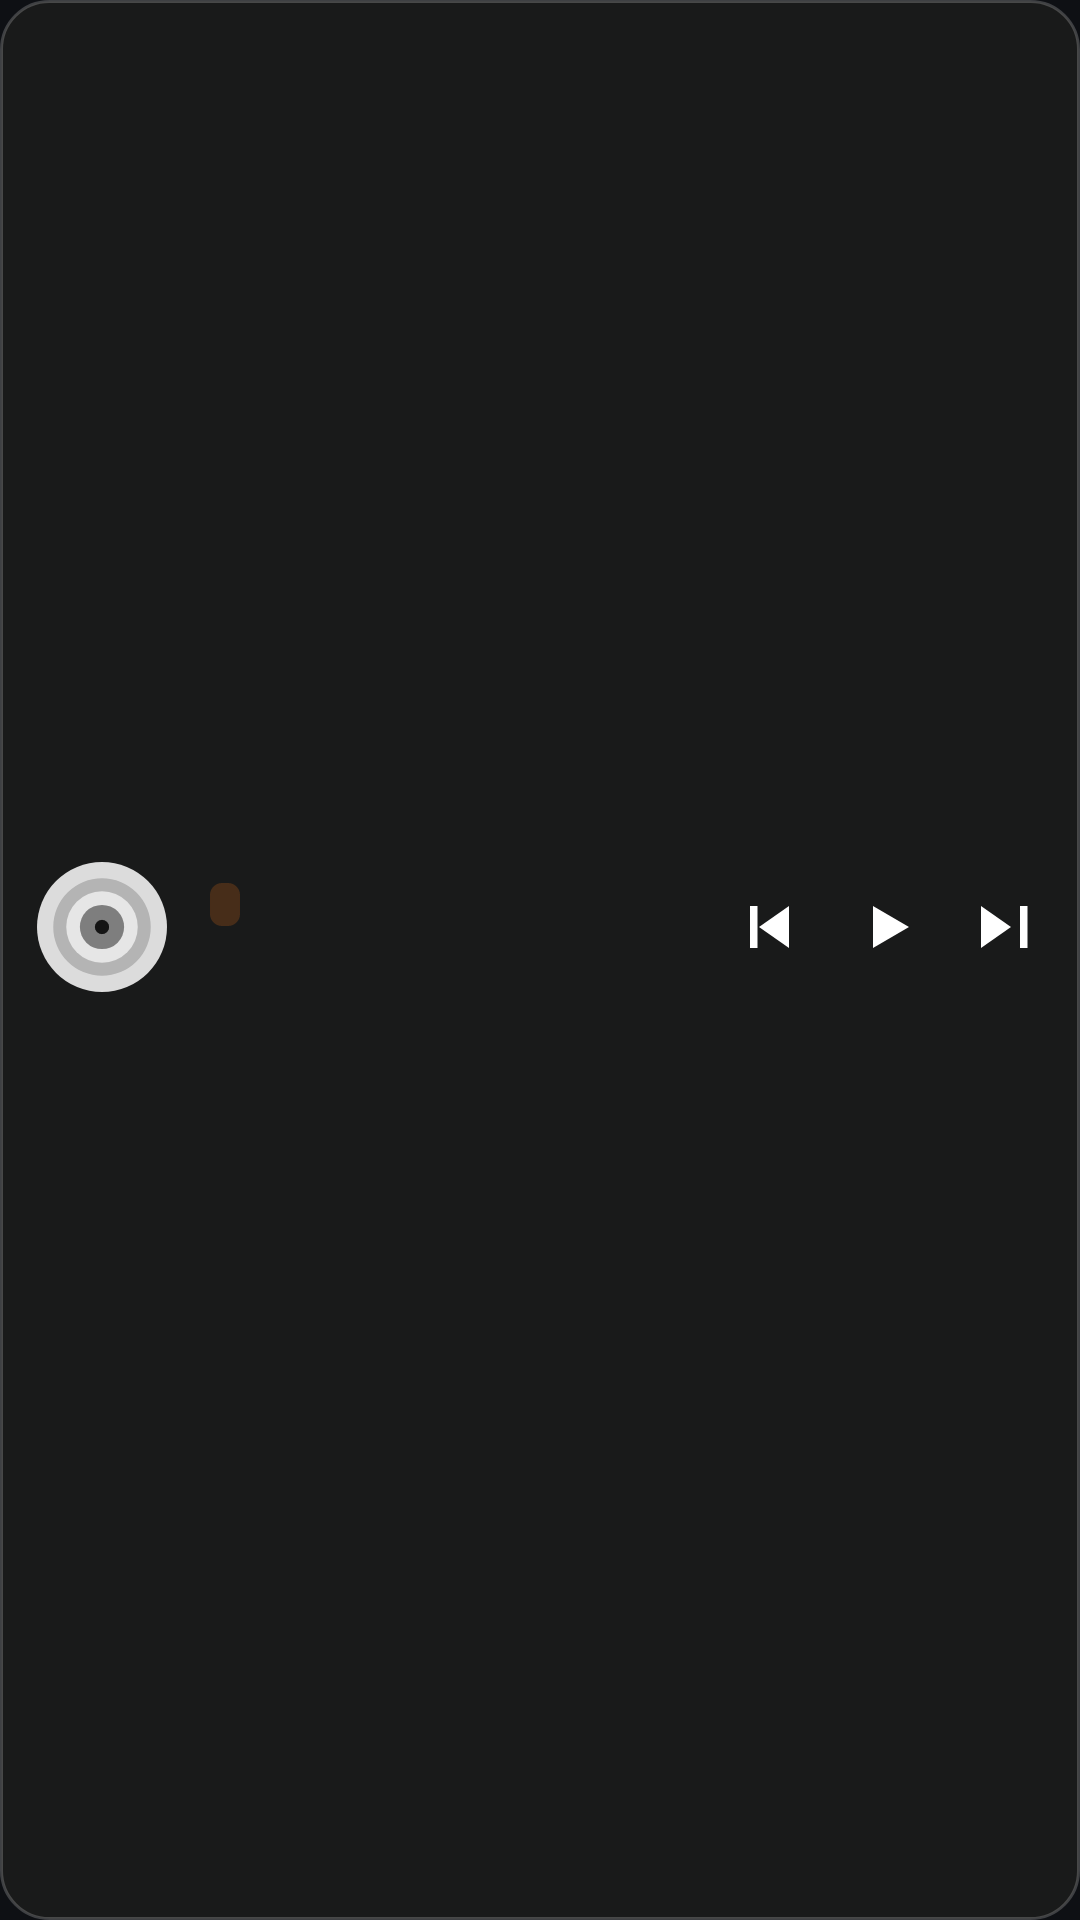

Where to tap for icons on this 1080w x 1920h app screen, as point (x, y):
Next: point (1004, 927)
Play or pause: point (891, 927)
Previous: point (769, 927)
widget disc: point (102, 927)
